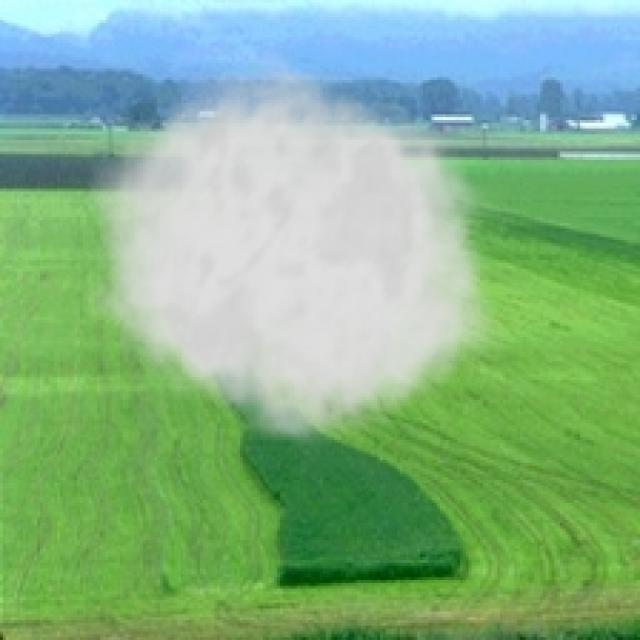smoke: (83, 49, 508, 454)
